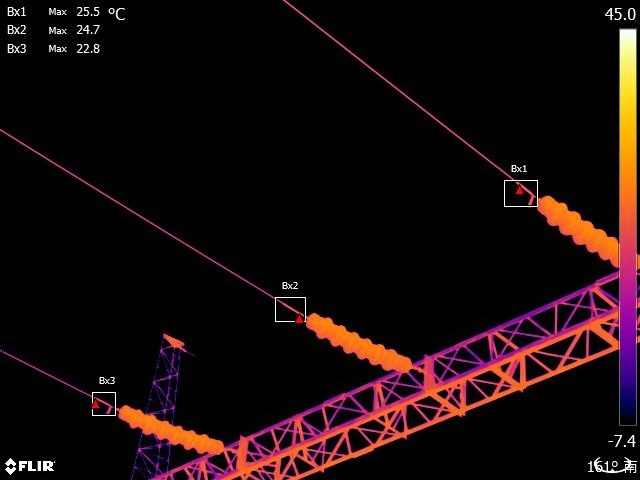insulator: (298, 308, 423, 379), (111, 400, 229, 458), (539, 190, 618, 273)
